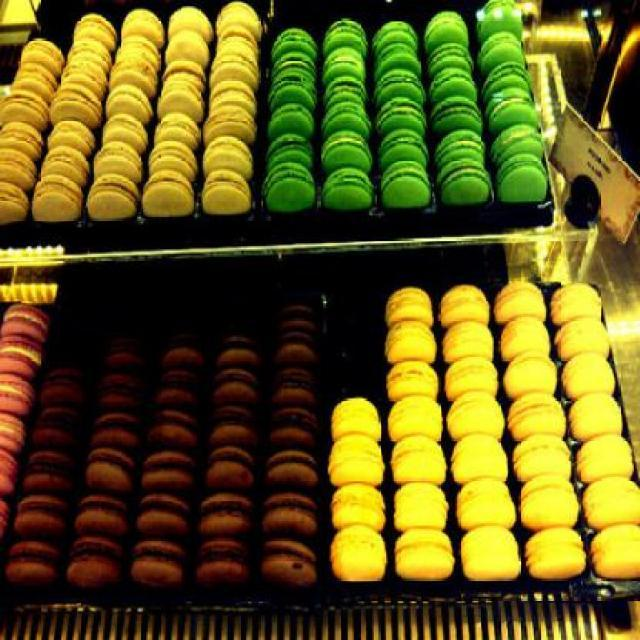Macaron: (1, 6, 640, 602)
